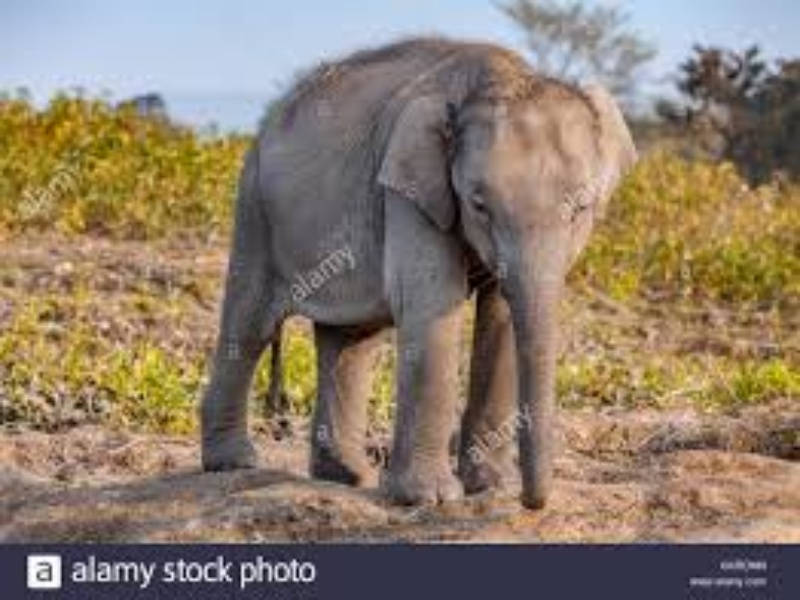elephant: (200, 38, 644, 544)
